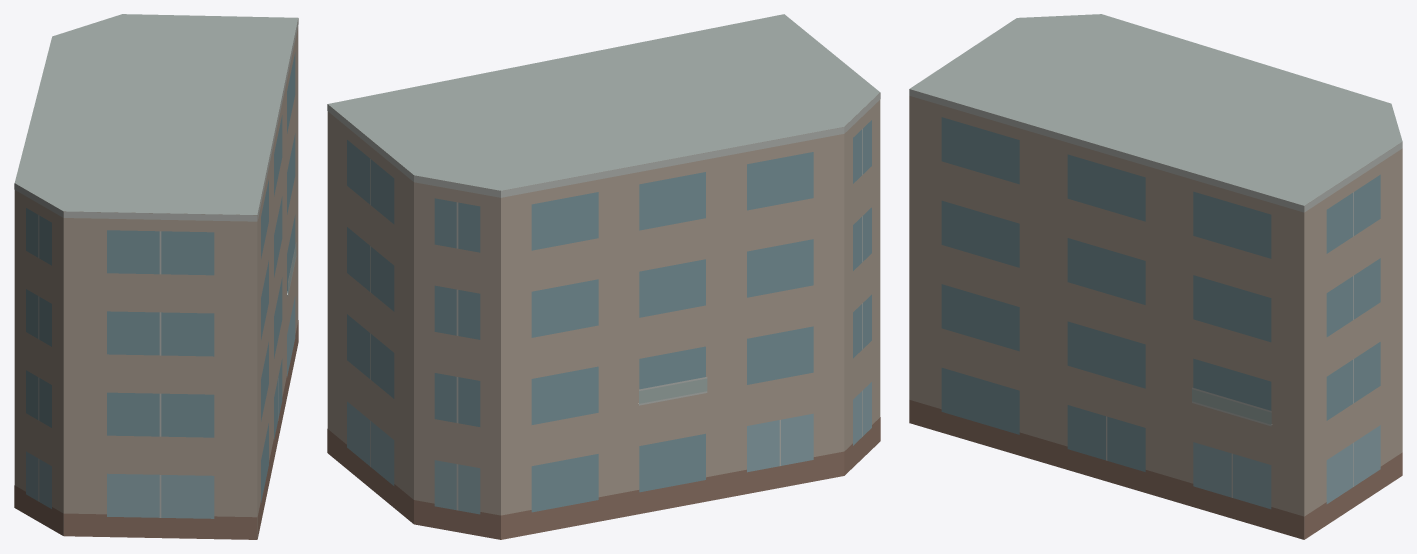
The model's file is survey-upis-32741600.glb.
The picture shows the model from 3 angles, left to right: view 1: azimuth 30°, elevation 25°; view 2: azimuth 150°, elevation 25°; view 3: azimuth 270°, elevation 25°; orthographic projection. The views are drawn at different scales.
Parts seen in each view (by area): view 1: survey-upis-32741600.tmp; view 2: survey-upis-32741600.tmp; view 3: survey-upis-32741600.tmp.
Part boxes in pixels (left/top/right/bottom): survey-upis-32741600.tmp: left=14, top=14, right=298, bottom=539; survey-upis-32741600.tmp: left=327, top=14, right=880, bottom=539; survey-upis-32741600.tmp: left=909, top=14, right=1402, bottom=539.
Size of the model in its own units: 14.91 by 12.1 by 16.21.
